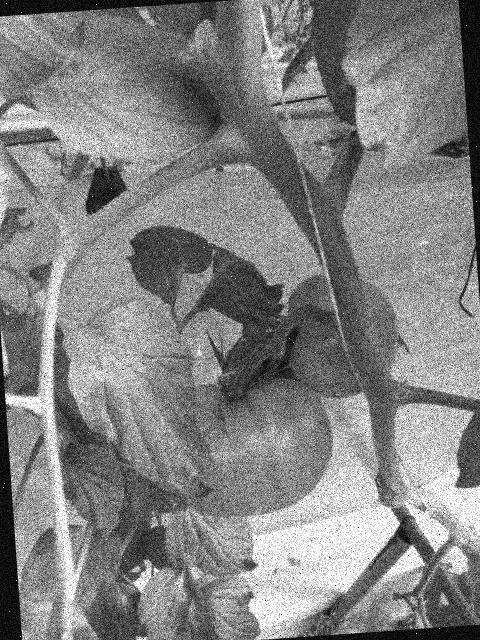b_half_ripened: (172, 373, 338, 521), (359, 589, 432, 632)
